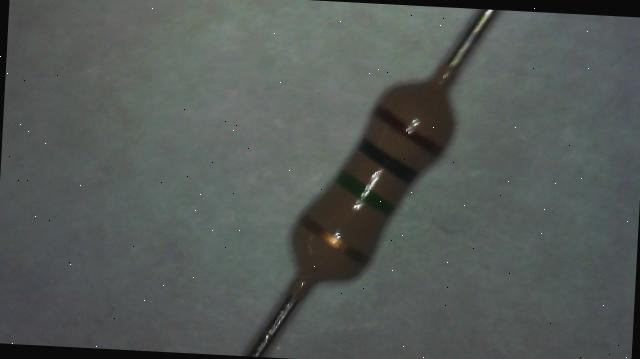black: (356, 138, 418, 183)
brown: (372, 103, 444, 156)
gold: (300, 215, 370, 265)
green: (334, 170, 396, 216)
resistor: (248, 51, 493, 313)
